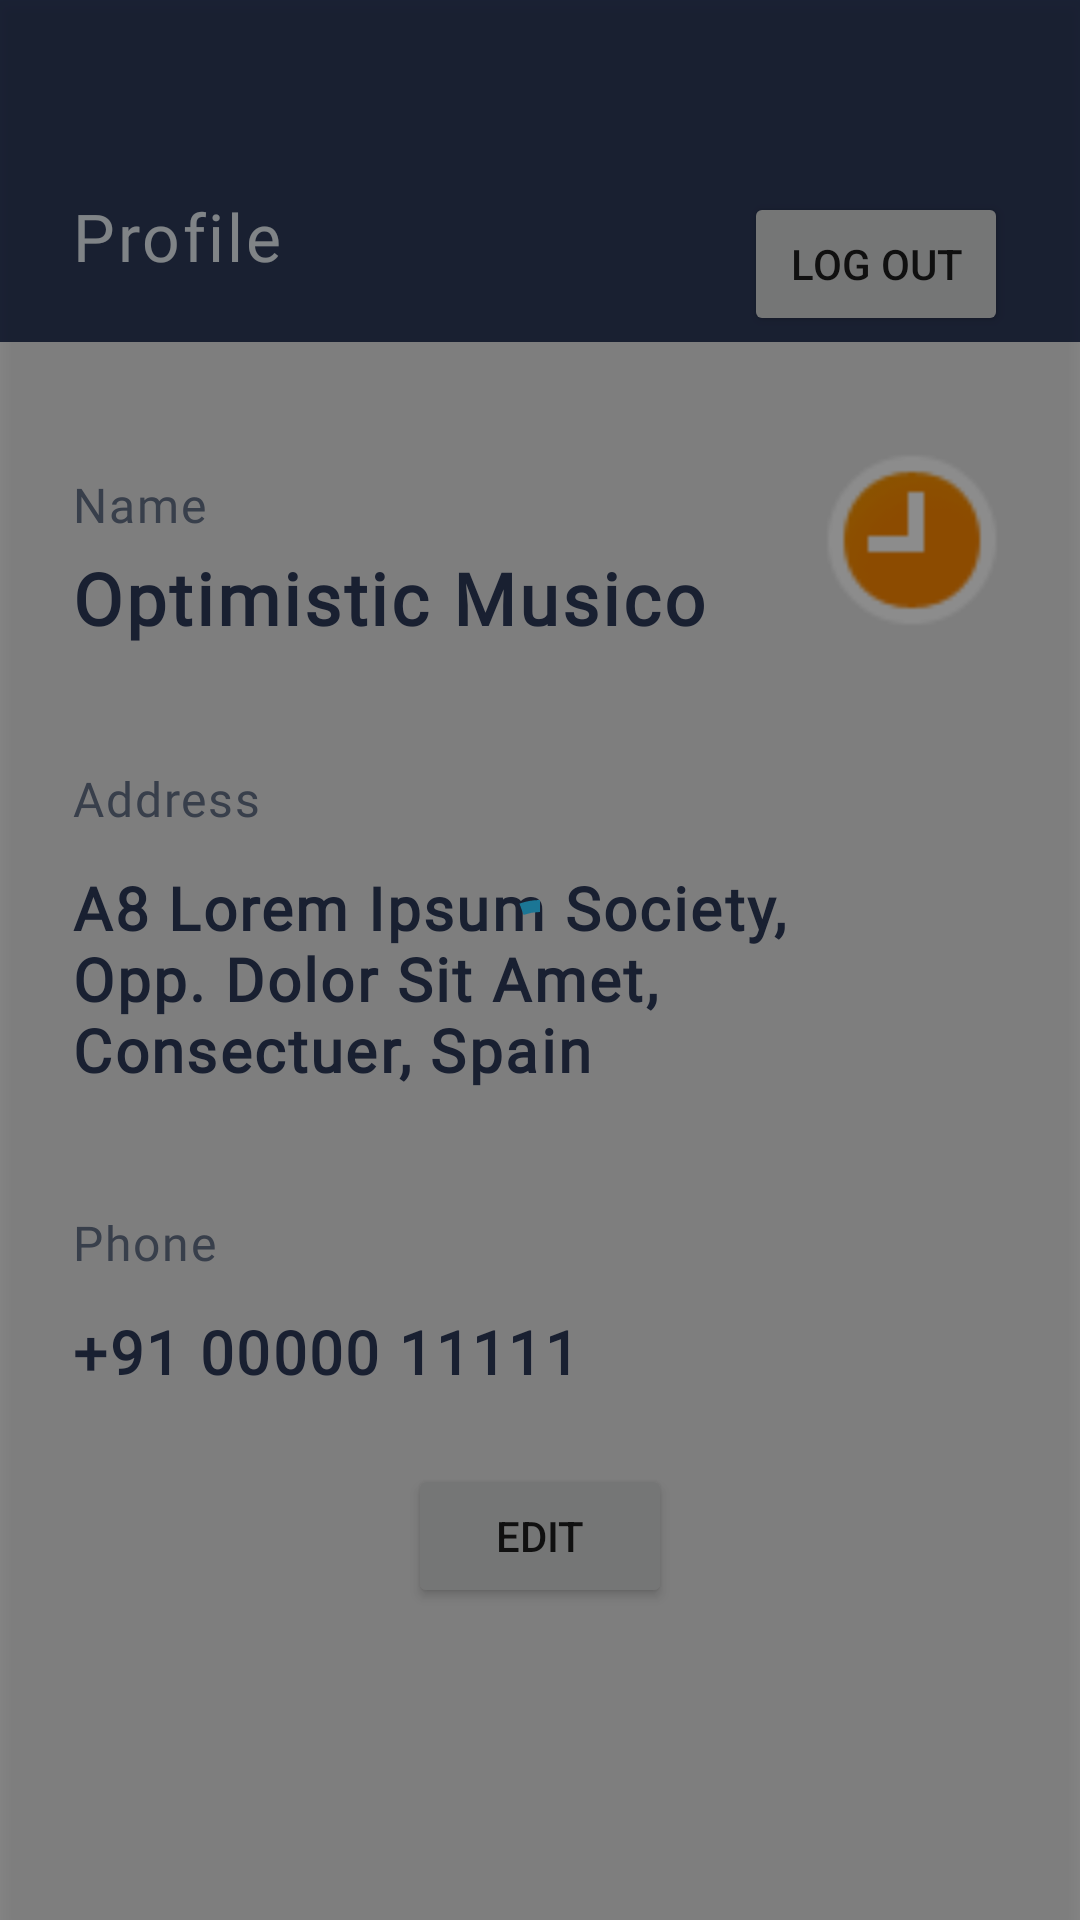

Named icons in this screenshot (1080*1920) and their bounding boxes, (x1, y1, x2, y2):
presence away: (843, 471, 981, 609)
